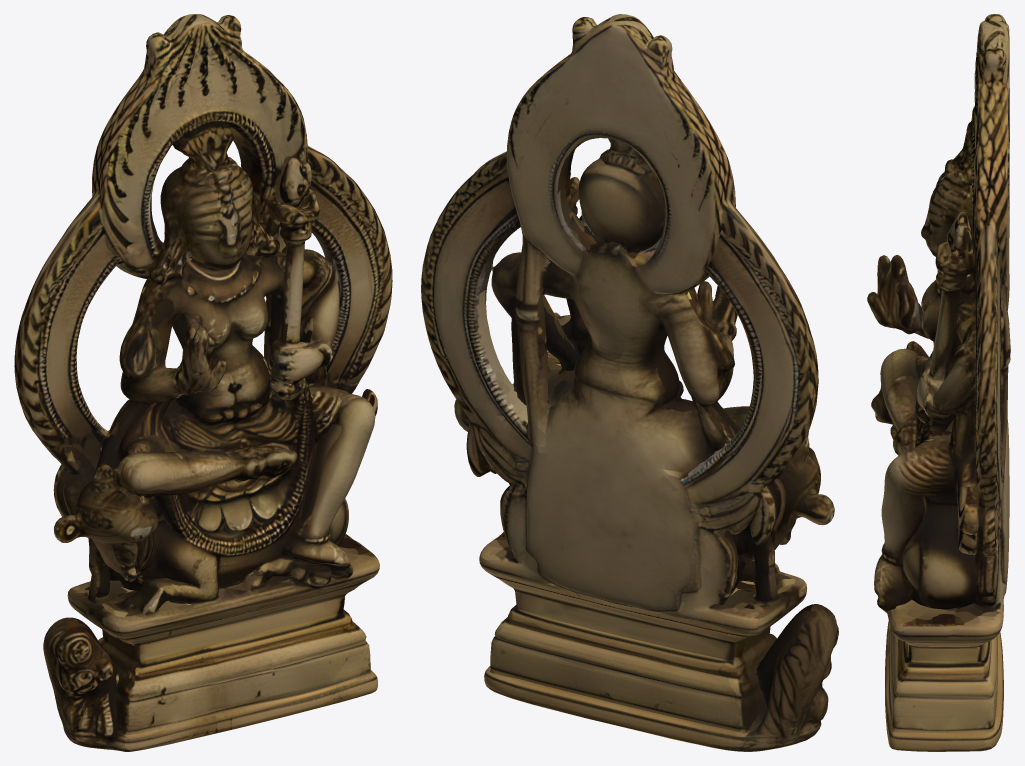
3 views of the same model, side by side, from view 1: azimuth 30°, elevation 25°; view 2: azimuth 150°, elevation 25°; view 3: azimuth 270°, elevation 25° (orthographic). The views are drawn at different scales.
Parts seen in each view (by area): view 1: textured_mesh; view 2: textured_mesh; view 3: textured_mesh.
Part boxes in pixels (x1,y1,x2,y2): textured_mesh: [14, 14, 392, 751]; textured_mesh: [421, 14, 838, 751]; textured_mesh: [867, 14, 1010, 751].
Size of the model in its own units: 1.16 by 1.99 by 0.3908.
Materials: 1 (1 with a texture image).
